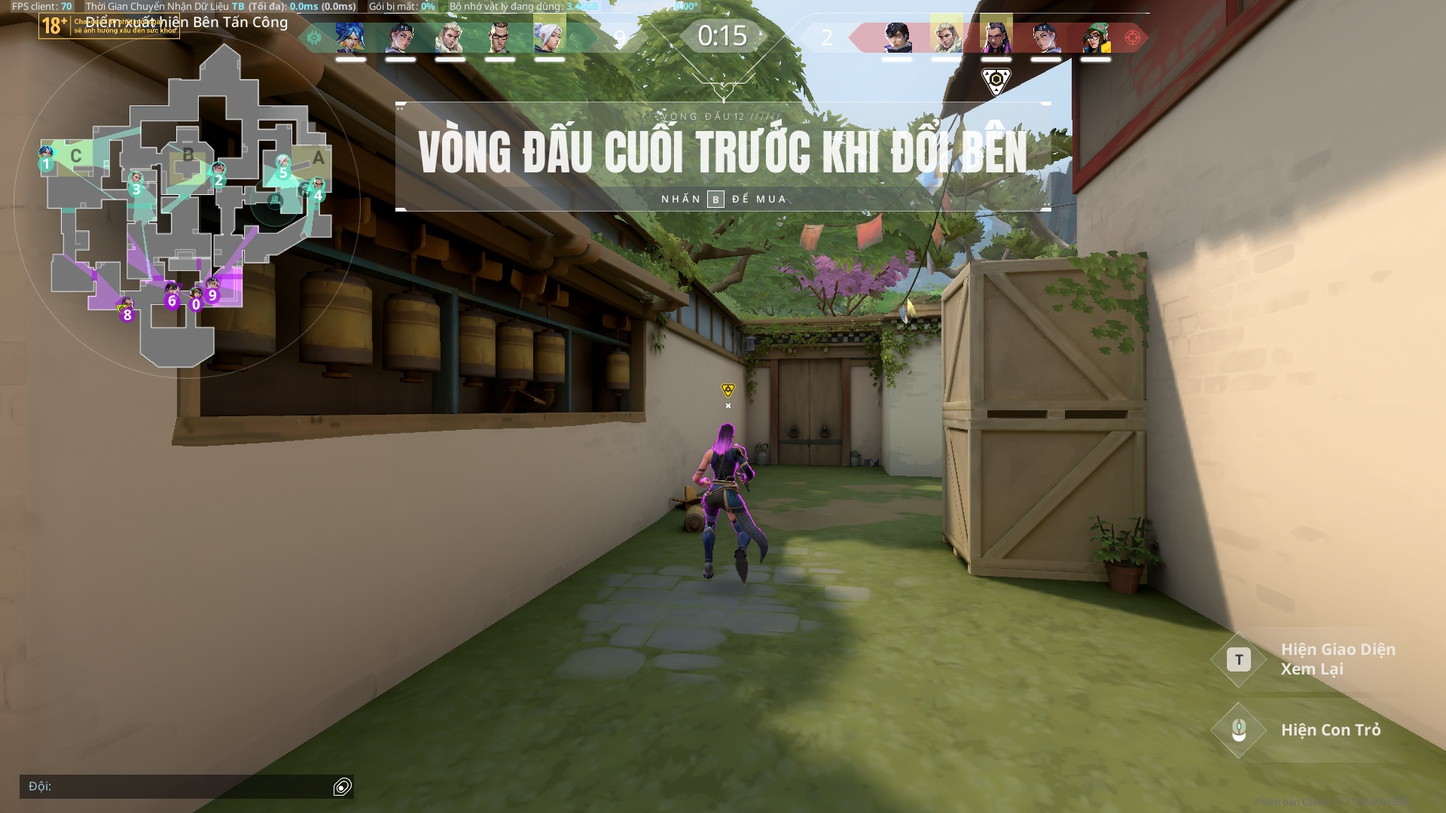body: (704, 442, 746, 480)
head: (716, 423, 736, 443)
